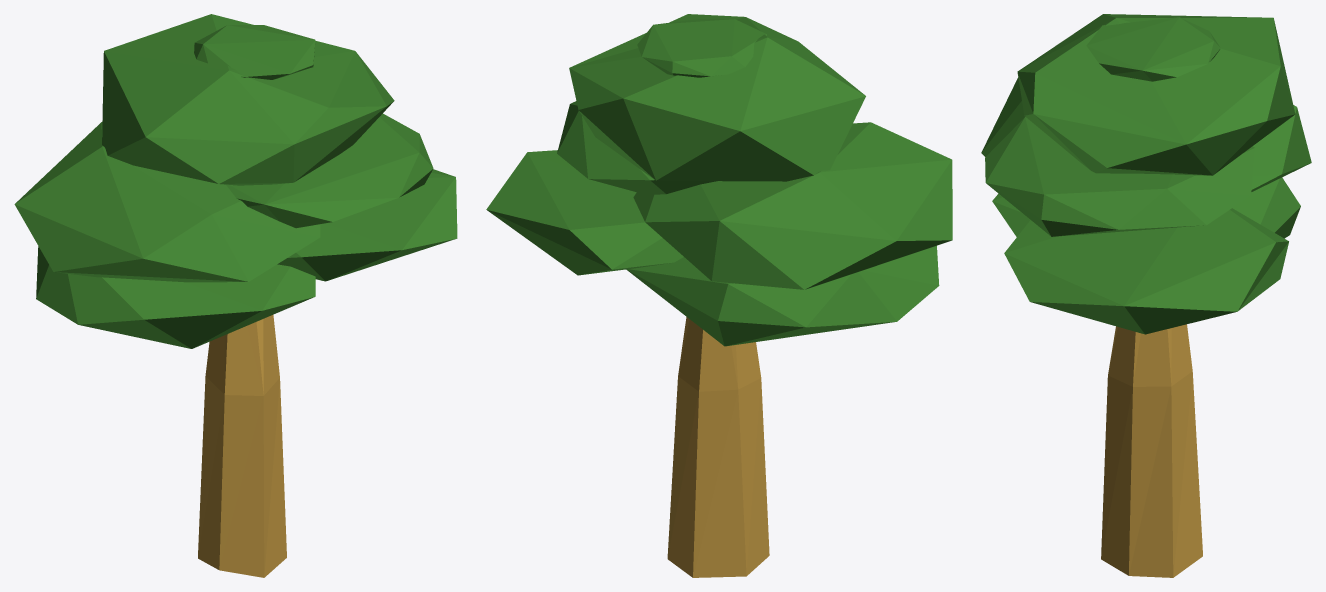
The model's file is Tree2.fbx.
3 renders of one model, left to right at view 1: azimuth 30°, elevation 25°; view 2: azimuth 150°, elevation 25°; view 3: azimuth 270°, elevation 25°, orthographic. The views are drawn at different scales.
Visible parts, largest first — view 1: Tree2; view 2: Tree2; view 3: Tree2.
Boxes of the visible parts, x1,y1,x2,y2 form: Tree2: (14,14,457,577); Tree2: (486,14,952,577); Tree2: (981,14,1311,577).
Bounding box in the file's own units: 9.57 × 11.44 × 6.47.
